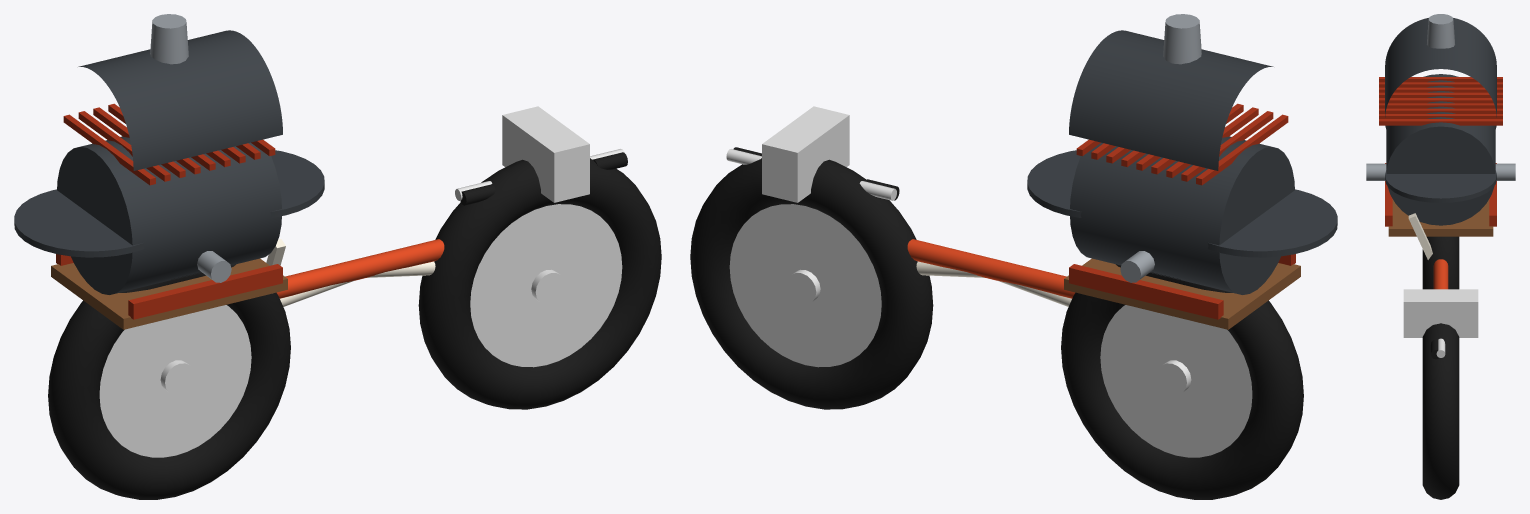
The picture shows the model from 3 angles, left to right: view 1: azimuth 30°, elevation 25°; view 2: azimuth 150°, elevation 25°; view 3: azimuth 270°, elevation 25°; orthographic projection. The views are drawn at different scales.
Parts seen in each view (by area): view 1: Demo BBQ Bike/tire_1, Demo BBQ Bike/Barrel, Demo BBQ Bike/tire, Demo BBQ Bike/rim_1, Demo BBQ Bike/Lid, Demo BBQ Bike/rim, Demo BBQ Bike/Basket, Demo BBQ Bike/CapL, Demo BBQ Bike/Deck, Demo BBQ Bike/TopTube, Demo BBQ Bike/RailR, Demo BBQ Bike/CapR (+6 smaller); view 2: Demo BBQ Bike/tire_1, Demo BBQ Bike/Barrel, Demo BBQ Bike/tire, Demo BBQ Bike/rim_1, Demo BBQ Bike/Lid, Demo BBQ Bike/rim, Demo BBQ Bike/Basket, Demo BBQ Bike/CapL, Demo BBQ Bike/Deck, Demo BBQ Bike/TopTube, Demo BBQ Bike/RailL, Demo BBQ Bike/CapR (+7 smaller); view 3: Demo BBQ Bike/Barrel, Demo BBQ Bike/tire_1, Demo BBQ Bike/Lid, Demo BBQ Bike/Basket, Demo BBQ Bike/CapR, Demo BBQ Bike/Deck, Demo BBQ Bike/tire, Demo BBQ Bike/Stack, Demo BBQ Bike/Slat_8, Demo BBQ Bike/Slat_6, Demo BBQ Bike/Slat_5, Demo BBQ Bike/Slat_4 (+11 smaller).
Boxes of the visible parts, x1,y1,x2,y2 form: Demo BBQ Bike/tire_1: [418, 158, 661, 409]; Demo BBQ Bike/Barrel: [57, 136, 281, 294]; Demo BBQ Bike/tire: [48, 264, 290, 499]; Demo BBQ Bike/rim_1: [470, 204, 622, 367]; Demo BBQ Bike/Lid: [78, 30, 282, 170]; Demo BBQ Bike/rim: [99, 305, 251, 457]; Demo BBQ Bike/Basket: [502, 106, 589, 202]; Demo BBQ Bike/CapL: [14, 189, 144, 257]; Demo BBQ Bike/Deck: [51, 258, 287, 329]; Demo BBQ Bike/TopTube: [277, 239, 444, 298]; Demo BBQ Bike/RailR: [128, 264, 282, 319]; Demo BBQ Bike/CapR: [270, 150, 324, 217]; Demo BBQ Bike/tire_1: [690, 158, 933, 409]; Demo BBQ Bike/Barrel: [1070, 136, 1294, 294]; Demo BBQ Bike/tire: [1061, 264, 1303, 499]; Demo BBQ Bike/rim_1: [729, 204, 881, 367]; Demo BBQ Bike/Lid: [1069, 30, 1273, 170]; Demo BBQ Bike/rim: [1100, 305, 1252, 457]; Demo BBQ Bike/Basket: [762, 106, 849, 202]; Demo BBQ Bike/CapL: [1207, 189, 1337, 257]; Demo BBQ Bike/Deck: [1064, 258, 1300, 329]; Demo BBQ Bike/TopTube: [907, 239, 1074, 298]; Demo BBQ Bike/RailL: [1069, 264, 1223, 319]; Demo BBQ Bike/CapR: [1027, 150, 1081, 217]; Demo BBQ Bike/Barrel: [1386, 74, 1495, 225]; Demo BBQ Bike/tire_1: [1422, 323, 1459, 499]; Demo BBQ Bike/Lid: [1385, 18, 1496, 117]; Demo BBQ Bike/Basket: [1403, 289, 1478, 337]; Demo BBQ Bike/CapR: [1385, 170, 1496, 202]; Demo BBQ Bike/Deck: [1388, 199, 1493, 236]; Demo BBQ Bike/tire: [1422, 236, 1459, 289]; Demo BBQ Bike/Stack: [1427, 14, 1454, 48]; Demo BBQ Bike/Slat_8: [1379, 119, 1502, 125]; Demo BBQ Bike/Slat_6: [1379, 108, 1502, 113]; Demo BBQ Bike/Slat_5: [1379, 103, 1502, 108]; Demo BBQ Bike/Slat_4: [1379, 98, 1502, 103].
Bounding box in the file's own units: 4.4 × 3.14 × 1.25.
